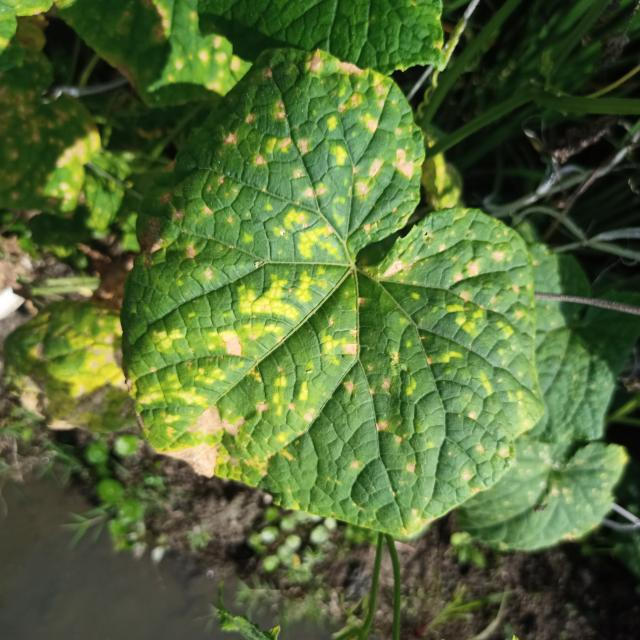disease_cucumber: (121, 54, 540, 501)
